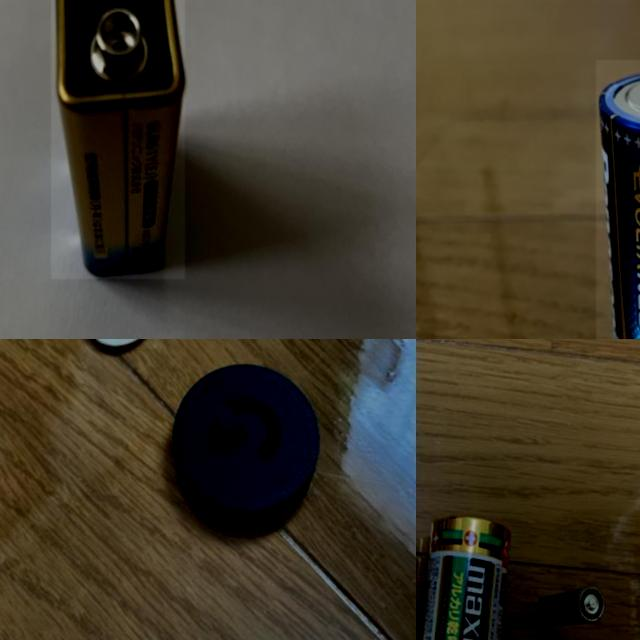9V: (51, 0, 185, 279)
